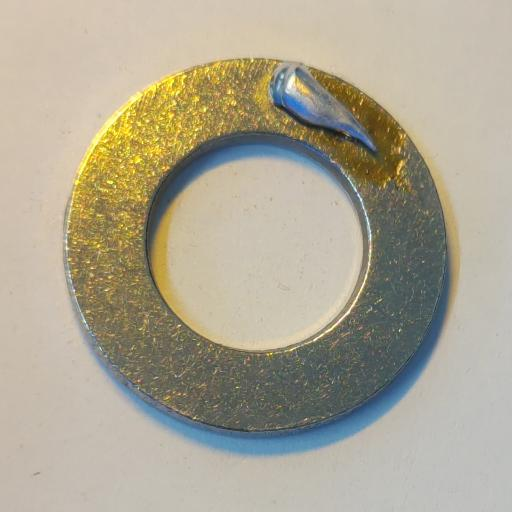excess_material: (271, 60, 378, 154)
